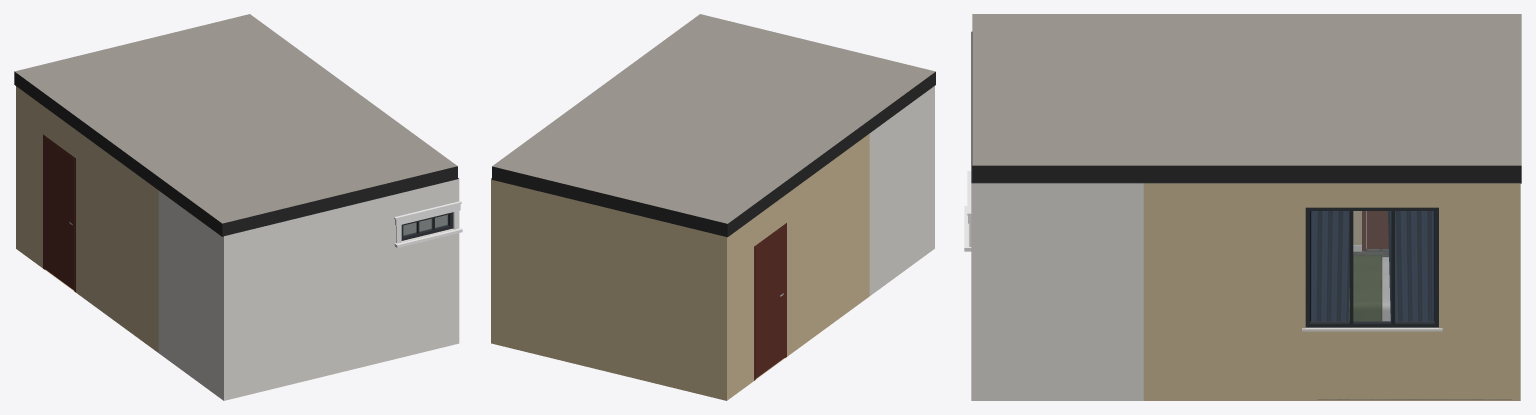
File: habitacion_1.1.glb
The picture shows the model from 3 angles, left to right: view 1: azimuth 30°, elevation 25°; view 2: azimuth 150°, elevation 25°; view 3: azimuth 270°, elevation 25°; orthographic projection. The views are drawn at different scales.
Visible parts, largest first — view 1: Roof, Wall 4f1rr6xsn0yp, Wall mxg2vt3qrxx6, Wall ji09w7vcn2f4, puerta, Opening trim, Wall 4f1rr6xsn0yp.005, Wall flt9jatzmxa8; view 2: Roof, Wall c2dly6zlpa44, Wall mxg2vt3qrxx6, Wall ji09w7vcn2f4, puerta; view 3: Roof, Wall eaqnsa6nq6bt, Wall flt9jatzmxa8, Item w95wrqv2ajj4.001, Wall eaqnsa6nq6bt.007, Wall eaqnsa6nq6bt.009, Wall eaqnsa6nq6bt.008, Item h9k7tjfw0s2b.008, Wall eaqnsa6nq6bt.002, puerta, Wall eaqnsa6nq6bt.010, Wall eaqnsa6nq6bt.003 (+5 smaller).
Boxes of the visible parts, x1,y1,x2,y2 form: Roof: (14, 14, 457, 236); Wall 4f1rr6xsn0yp: (224, 178, 459, 400); Wall mxg2vt3qrxx6: (16, 86, 158, 352); Wall ji09w7vcn2f4: (158, 191, 223, 400); puerta: (44, 138, 74, 290); Opening trim: (394, 201, 462, 247); Wall 4f1rr6xsn0yp.005: (403, 215, 447, 235); Wall flt9jatzmxa8: (403, 178, 458, 235); Roof: (492, 14, 935, 237); Wall c2dly6zlpa44: (491, 178, 726, 400); Wall mxg2vt3qrxx6: (727, 133, 869, 400); Wall ji09w7vcn2f4: (869, 86, 934, 295); puerta: (755, 226, 785, 378); Roof: (972, 14, 1521, 183); Wall eaqnsa6nq6bt: (1143, 182, 1520, 400); Wall flt9jatzmxa8: (971, 182, 1143, 400); Item w95wrqv2ajj4.001: (1310, 211, 1434, 321); Wall eaqnsa6nq6bt.007: (1311, 211, 1349, 321); Wall eaqnsa6nq6bt.009: (1395, 211, 1433, 321); Wall eaqnsa6nq6bt.008: (1353, 211, 1390, 321); Item h9k7tjfw0s2b.008: (1348, 254, 1382, 321); Wall eaqnsa6nq6bt.002: (1305, 321, 1438, 327); puerta: (1367, 211, 1388, 248); Wall eaqnsa6nq6bt.010: (1302, 327, 1442, 331); Wall eaqnsa6nq6bt.003: (1305, 211, 1309, 323).
Bounding box in the file's own units: 4.09 × 2.91 × 6.27.
141 materials, 28 textured.
